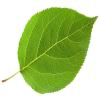Apple leaf: (17, 5, 99, 97)
